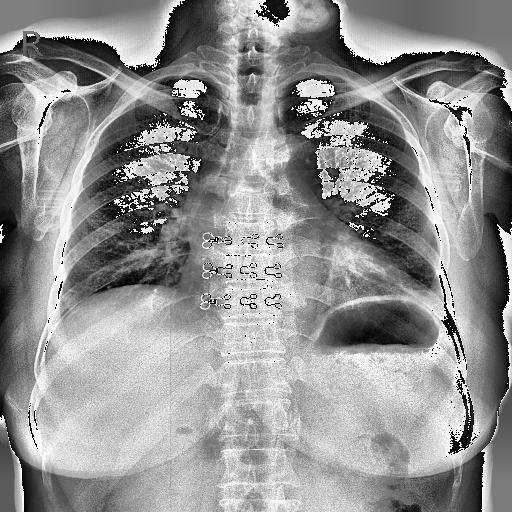0- Aortic enlargement: (250, 129, 323, 208), (250, 134, 324, 198), (264, 140, 323, 212)
11- Pleural thickening: (298, 72, 349, 82)
3- Cardiomegaly: (179, 248, 411, 314), (175, 240, 405, 306), (179, 268, 428, 327)
